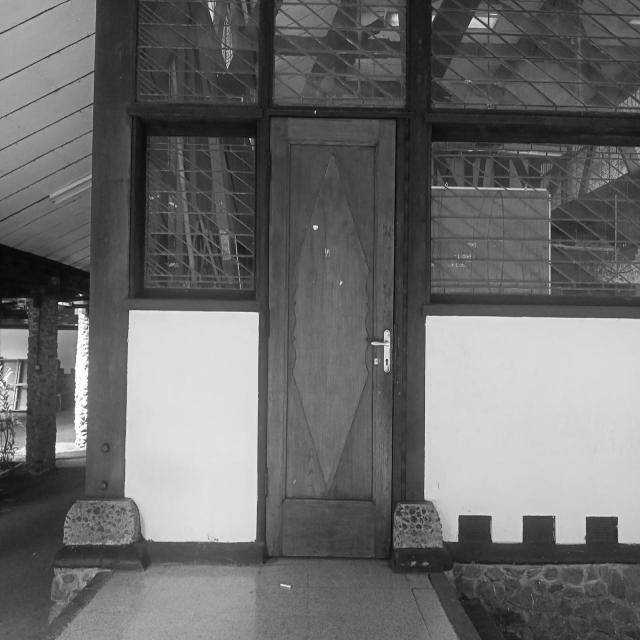door: (264, 107, 398, 563)
